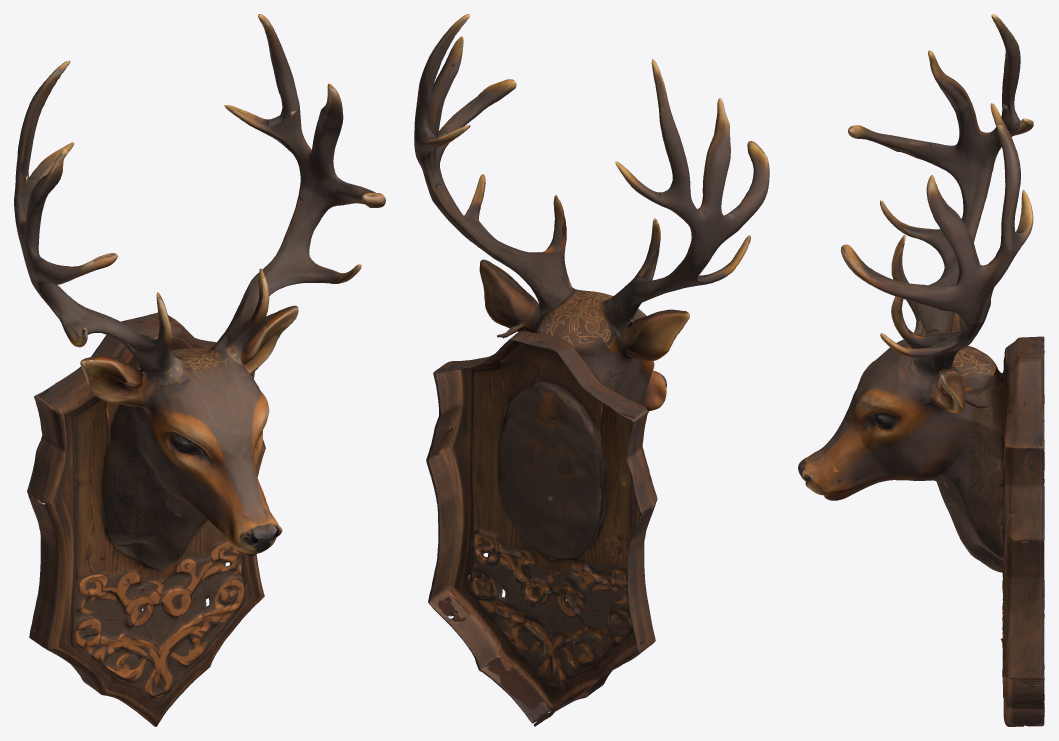
The model's file is _Create_a_framed_pain_0721234714_texture.fbx.
3 renders of one model, left to right at view 1: azimuth 30°, elevation 25°; view 2: azimuth 150°, elevation 25°; view 3: azimuth 270°, elevation 25°, orthographic. The views are drawn at different scales.
Parts seen in each view (by area): view 1: Mesh_0; view 2: Mesh_0; view 3: Mesh_0.
Part boxes in pixels (<box>): Mesh_0: <box>14,14,385,726</box>; Mesh_0: <box>414,14,769,726</box>; Mesh_0: <box>798,14,1044,726</box>.
Bounding box in the file's own units: 97.98 × 200 × 66.99.
Materials: 1 (1 with a texture image).
